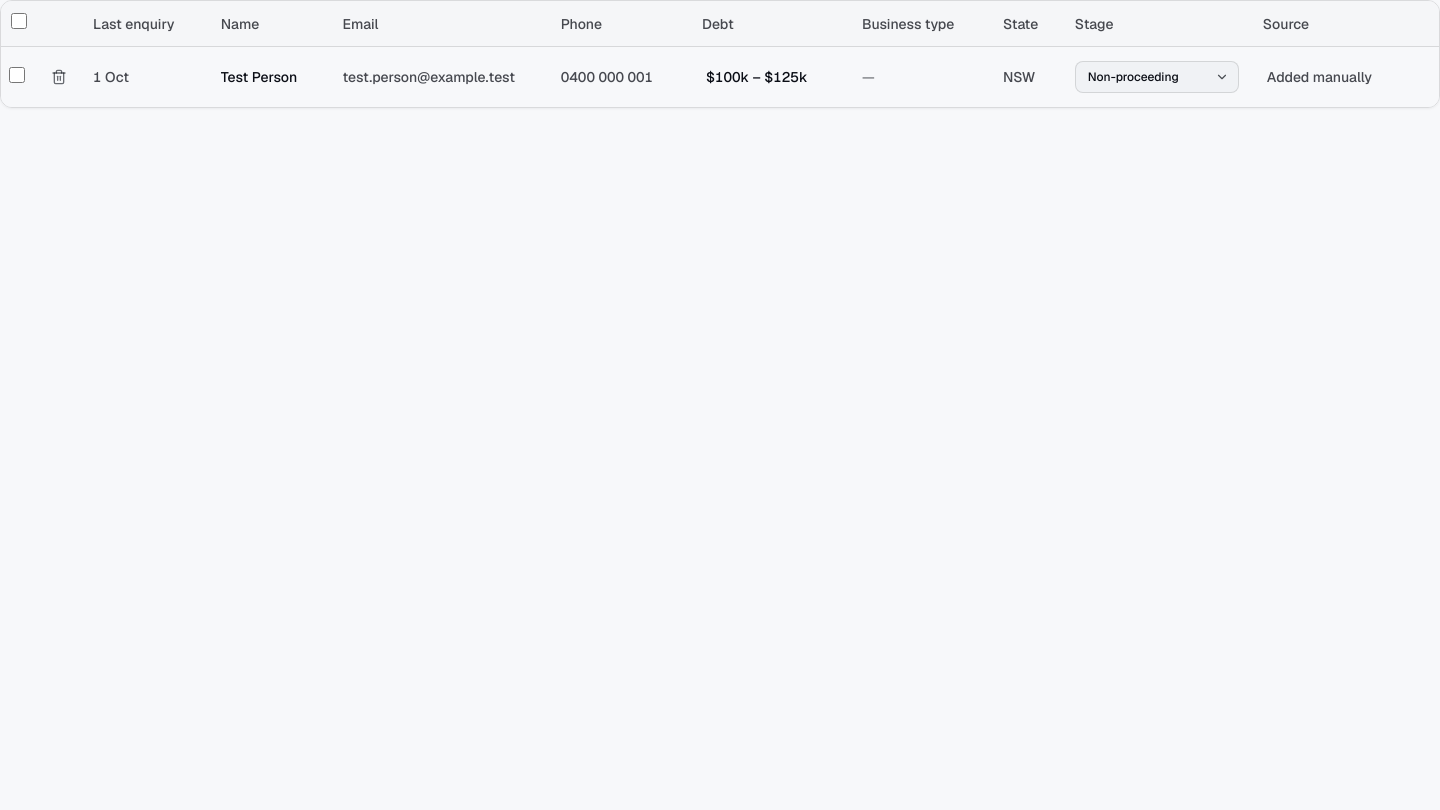
it: the name and email columns › shows the full email on hover, with a button that copies it
Hover over the element showing "test.person@example.test" at (440, 77), box [342,67,537,87]
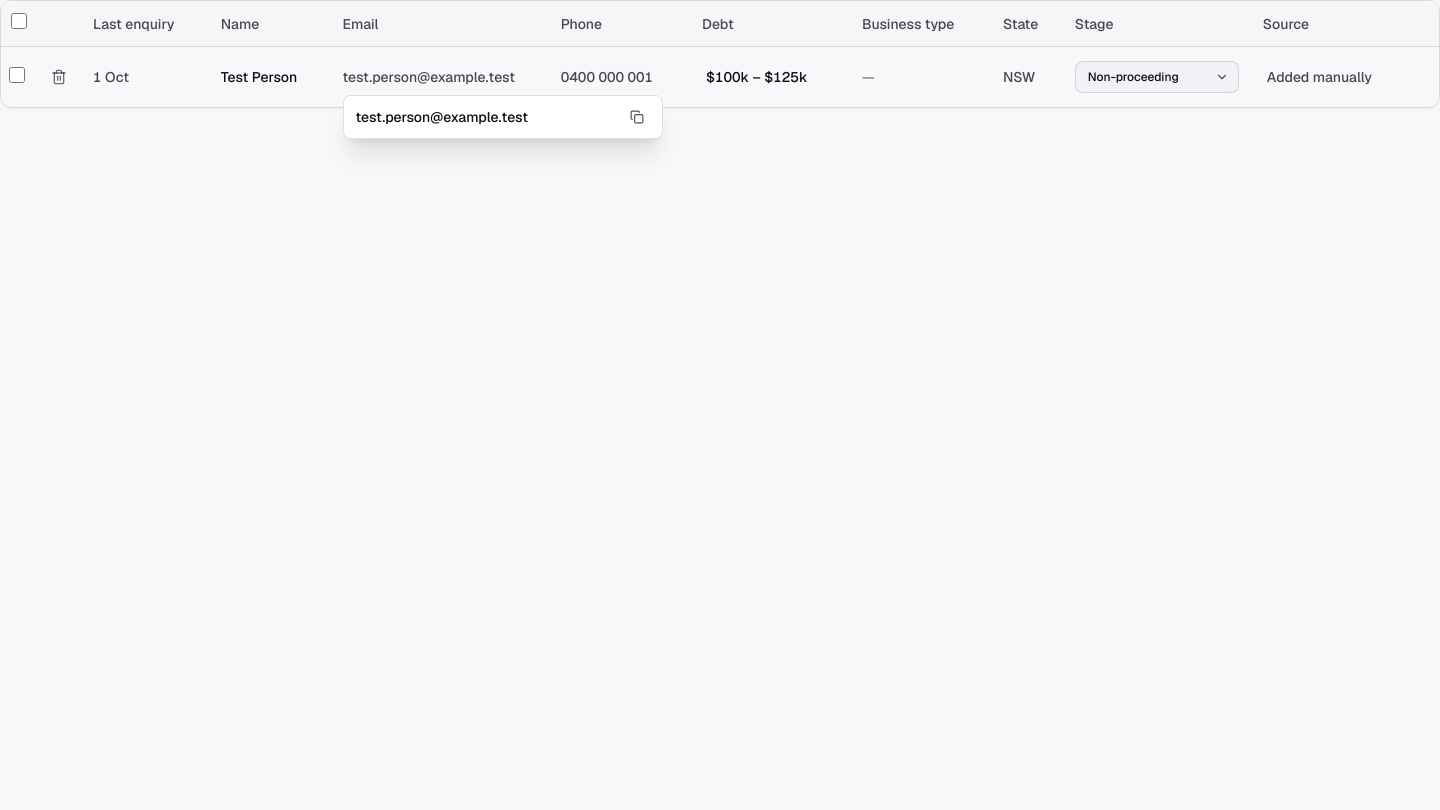
Expected: the tooltip reads "test.person@example.test", [356,108,528,126]
Click the button named "Copy email" at (636, 117), box [624,104,650,130]
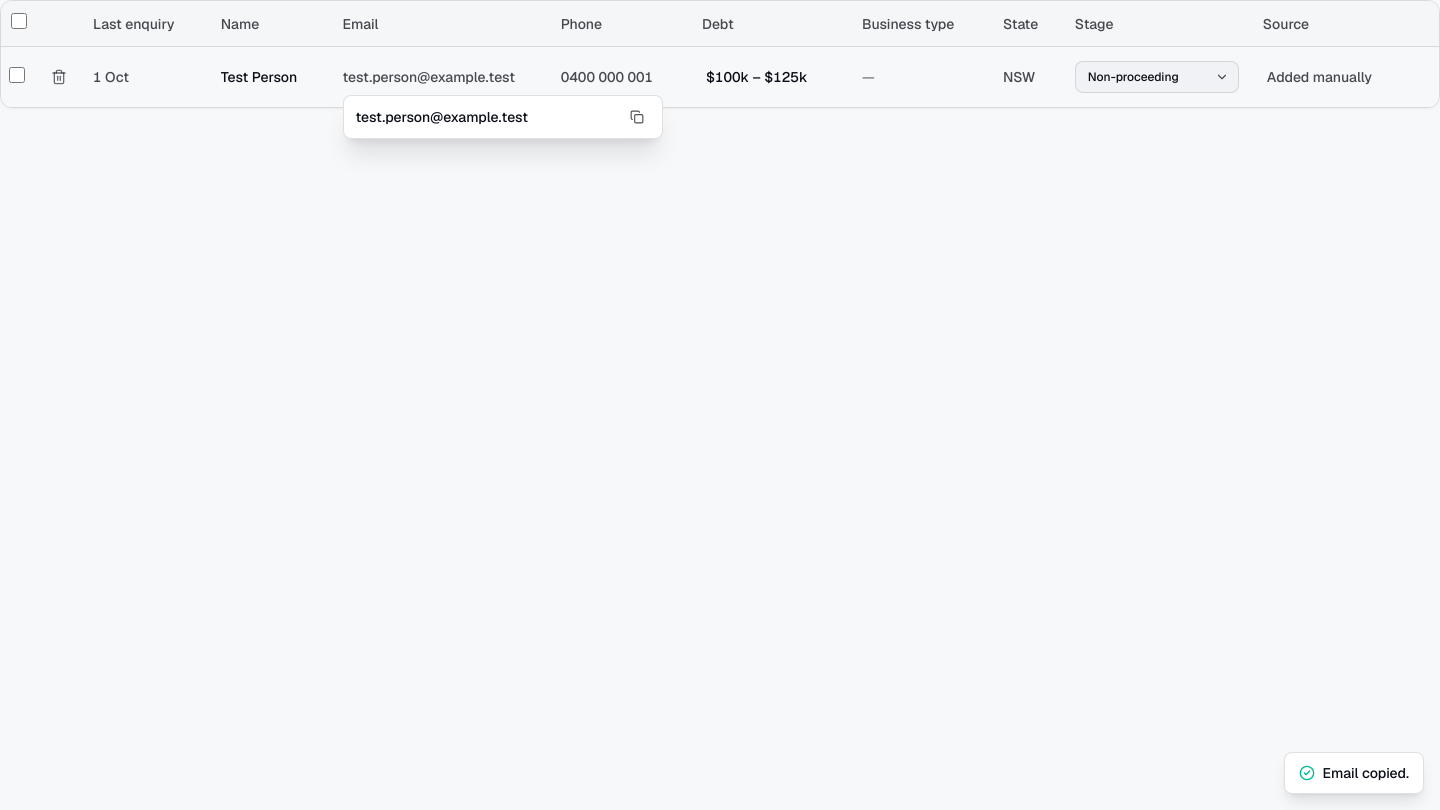
Expected: the text "Email copied." is shown, [1322,763,1409,783]
